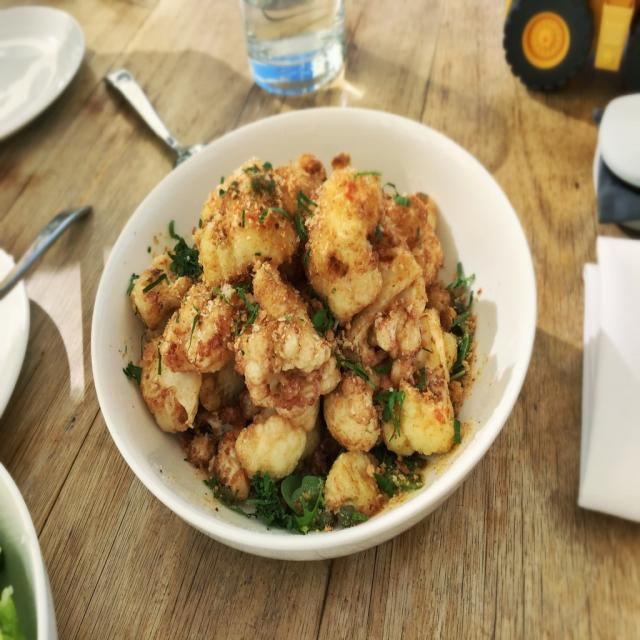non-organic waste: (81, 100, 540, 585)
